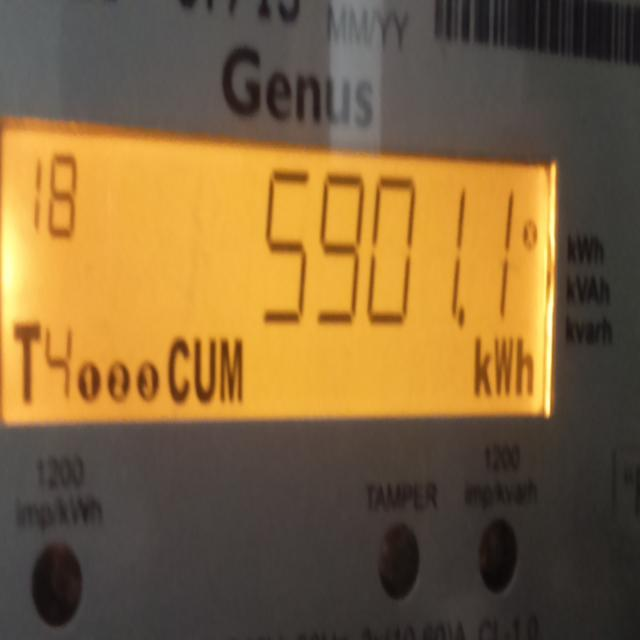.: (462, 304, 468, 324)
0: (368, 181, 412, 327)
1: (452, 186, 468, 322), (500, 188, 512, 318), (35, 156, 43, 224)
5: (265, 168, 310, 324)
8: (49, 156, 77, 241)
9: (321, 179, 360, 325)
